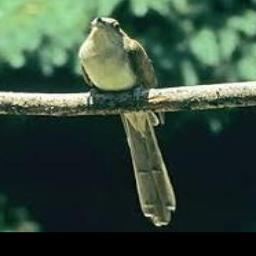Cuckoo: (77, 17, 176, 226)
